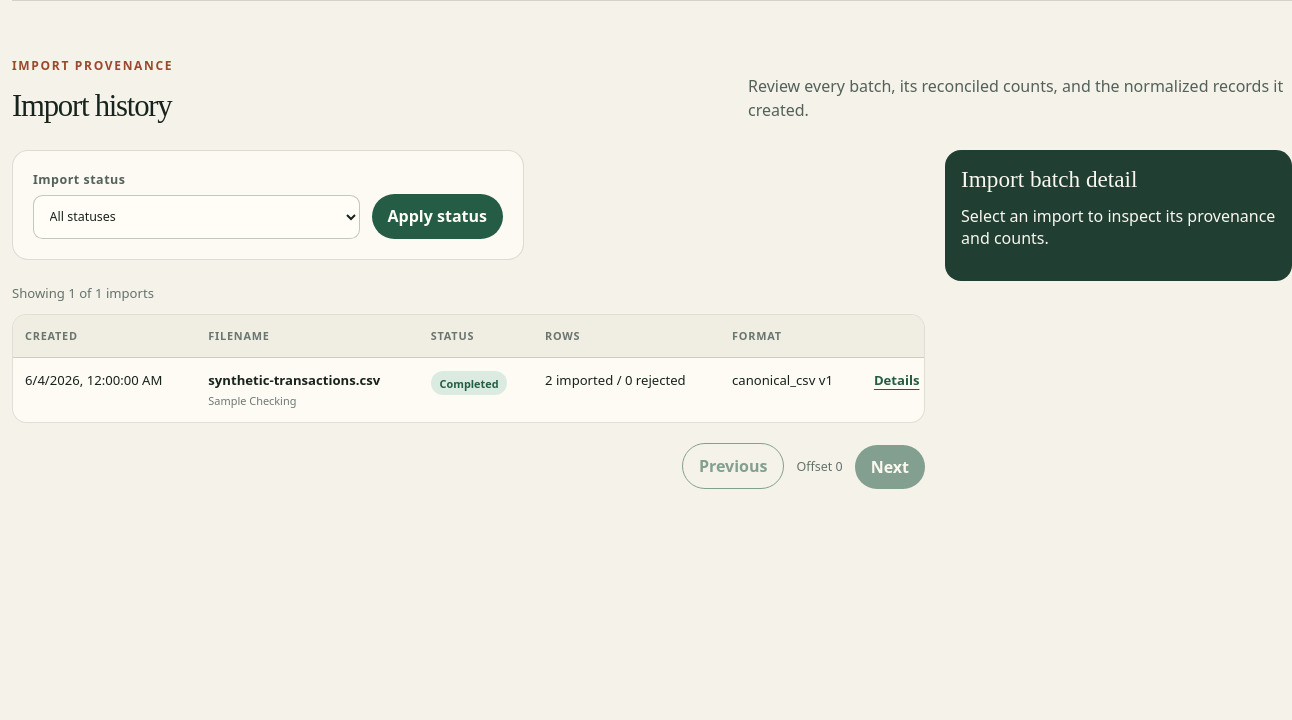
Test case: ImportHistoryView › applies a status filter and exposes loading failures
Check: the text "synthetic-transactions.csv" is shown, box [208,372,407,390]
Select "failed" in the dropdown labelled "Import status" at (196, 217), box [33,195,360,239]
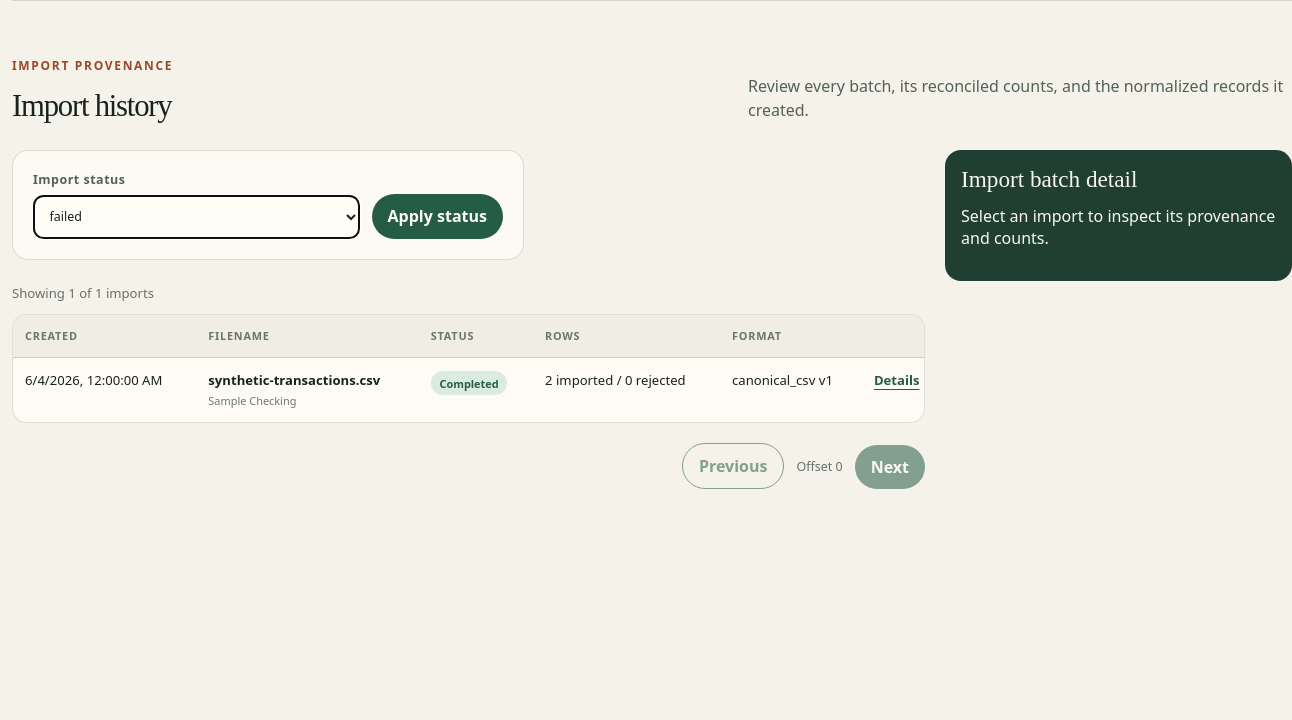
Click the button "Apply status" at (437, 216), box [372,194,503,239]
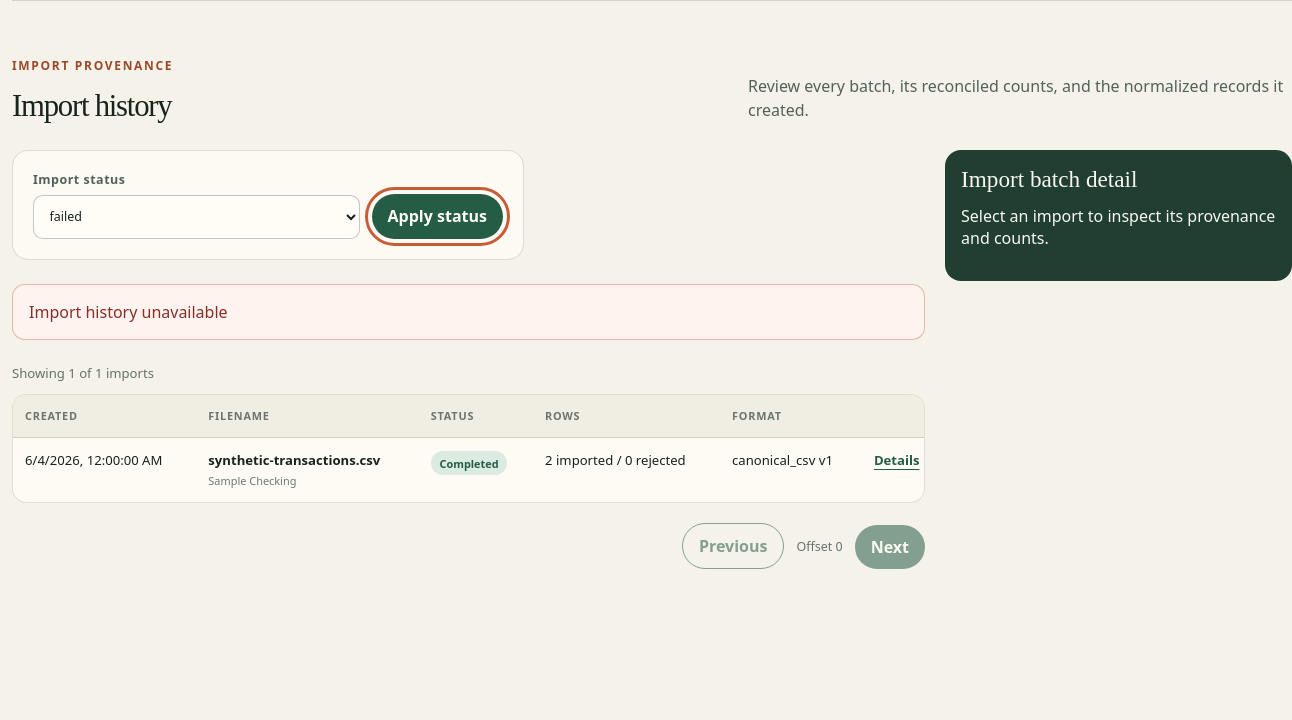
Check: the message reads "Import history unavailable", box [29,301,228,323]
